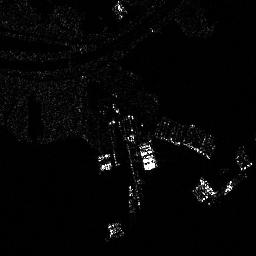ship: (99, 162, 112, 171), (96, 154, 110, 162)
